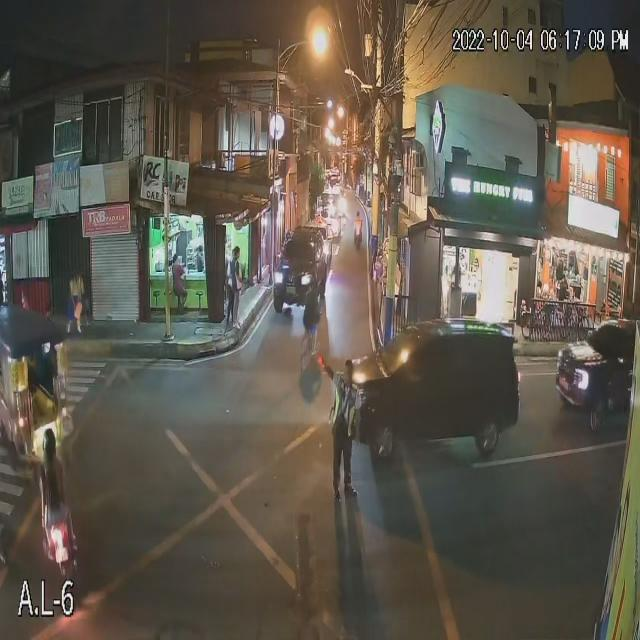helmet: (43, 427, 57, 447)
motorcycle: (34, 426, 78, 578), (353, 210, 365, 247)
rider: (38, 426, 74, 568), (353, 209, 365, 249)
